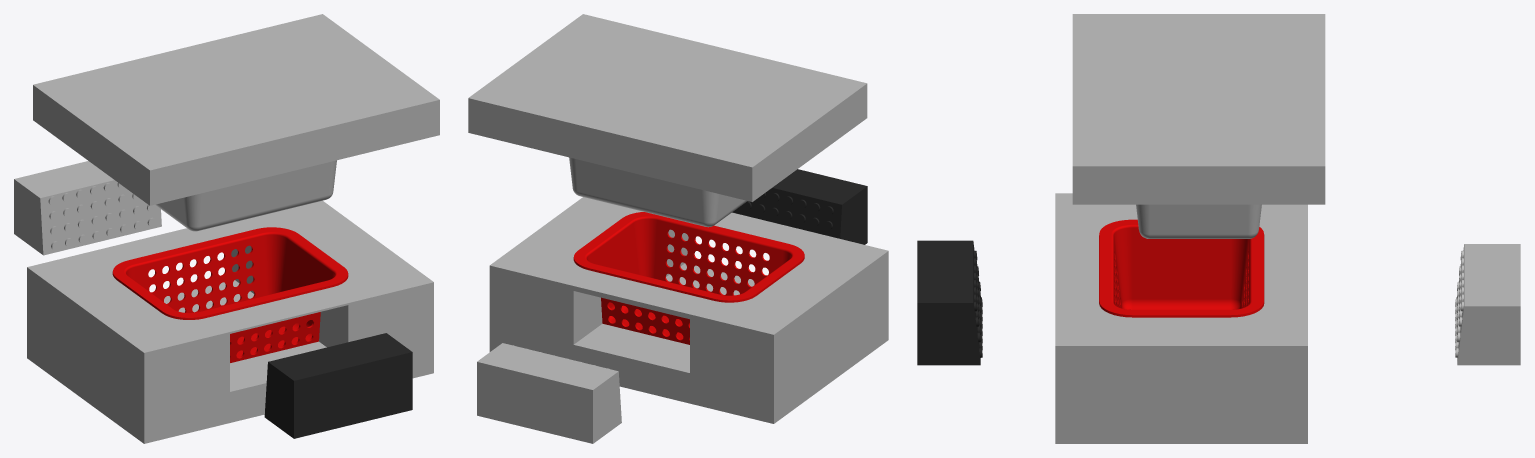
The model's file is assembly.glb.
3 views of the same model, side by side, from view 1: azimuth 30°, elevation 25°; view 2: azimuth 150°, elevation 25°; view 3: azimuth 270°, elevation 25° (orthographic). The views are drawn at different scales.
Visible parts, largest first — view 1: Tooling Split1[2]-1, Core16[1]-1, Parting Line1-1, Core11[2]-1, Core16[2]-1; view 2: Tooling Split1[2]-1, Core16[1]-1, Parting Line1-1, Core16[2]-1, Core11[2]-1; view 3: Tooling Split1[2]-1, Core16[1]-1, Parting Line1-1, Core11[2]-1, Core16[2]-1.
Boxes of the visible parts, x1,y1,x2,y2 form: Tooling Split1[2]-1: [33, 14, 439, 231]; Core16[1]-1: [27, 200, 433, 443]; Parting Line1-1: [112, 227, 348, 362]; Core11[2]-1: [264, 333, 412, 438]; Core16[2]-1: [14, 161, 161, 255]; Tooling Split1[2]-1: [468, 14, 867, 227]; Core16[1]-1: [489, 197, 888, 423]; Parting Line1-1: [573, 212, 804, 344]; Core16[2]-1: [477, 343, 621, 443]; Core11[2]-1: [732, 169, 867, 244]; Tooling Split1[2]-1: [1072, 14, 1325, 238]; Core16[1]-1: [1055, 193, 1307, 443]; Parting Line1-1: [1099, 219, 1264, 317]; Core11[2]-1: [917, 240, 982, 365]; Core16[2]-1: [1455, 244, 1520, 365].
Bounding box in the file's own units: 0.3143 × 0.2613 × 0.5018.
